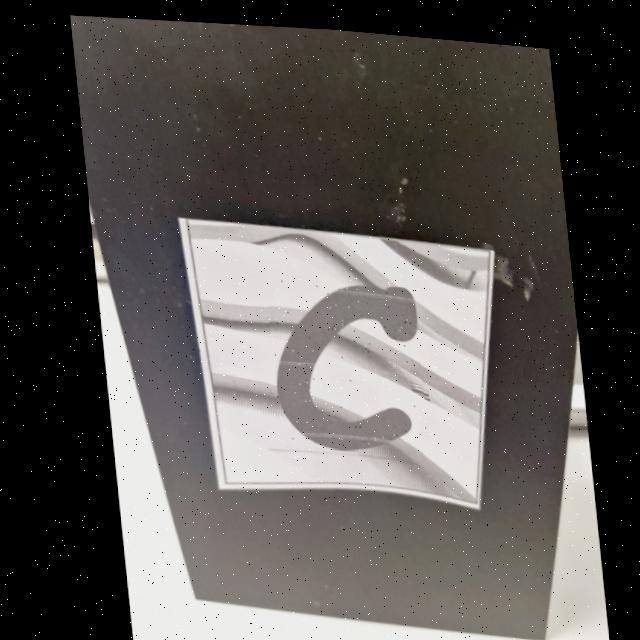C: (271, 280, 412, 444)
